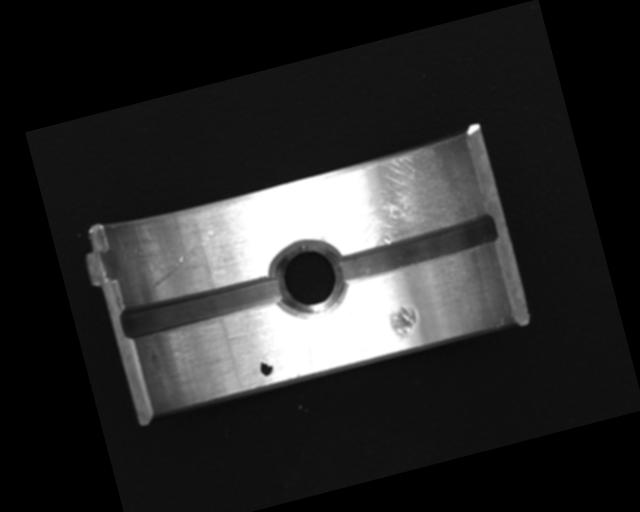blot: (257, 354, 276, 378)
bruise: (386, 302, 422, 343)
gap: (331, 210, 501, 286), (118, 271, 281, 343)
hole: (264, 233, 352, 326)
nick: (140, 227, 225, 289)
scratch: (315, 138, 479, 258)
